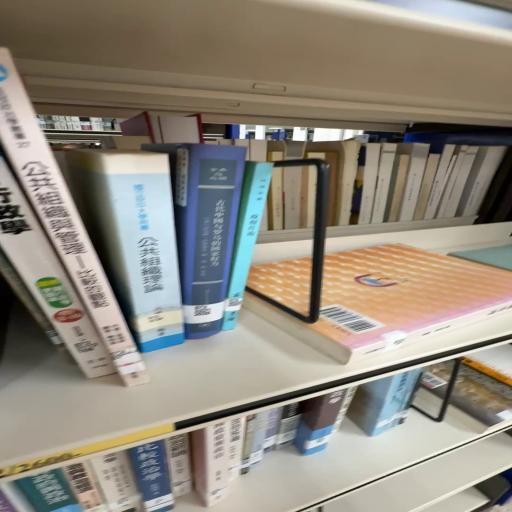flat: (245, 245, 512, 365), (250, 259, 311, 315)
